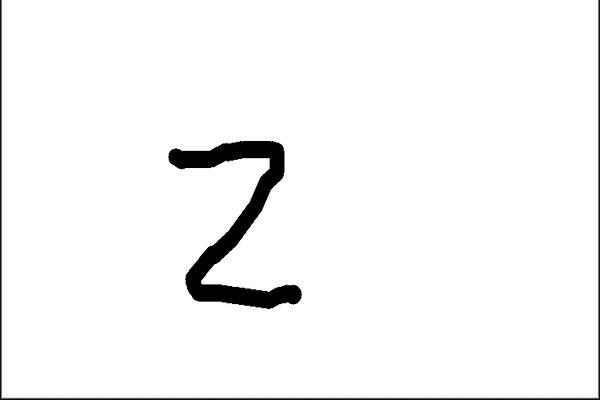Z: (158, 133, 307, 317)
